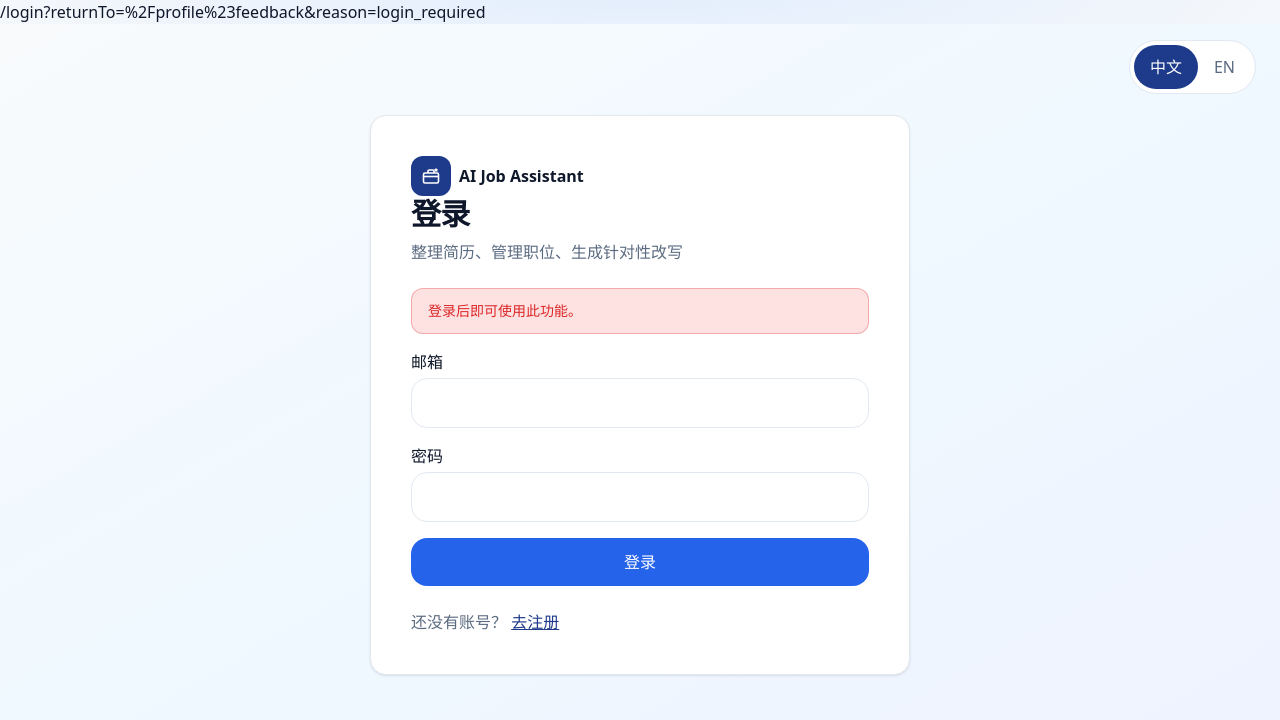
public landing and returnTo routing › logging in from the old /feedback URL lands on the profile rating card
This screenshot has width=1280, height=720.
Expected: the heading "登录" is shown, [411,193,470,234]
Expected: the text with test id "current-location" shows "/login?returnTo=%2Fprofile%23feedback", [0,1,486,23]
Type "alice@example.com" into the field labelled "邮箱" at [640, 403], box [411,378,869,428]
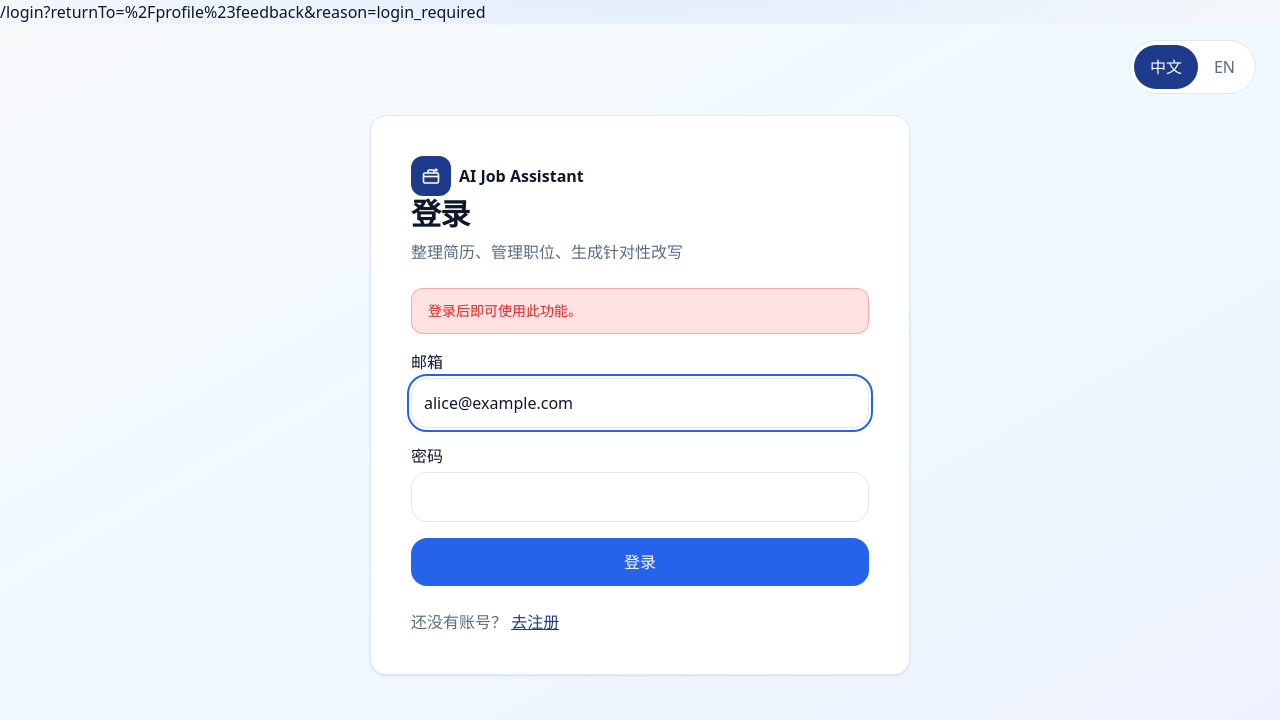
Type "Password123" into the password field labelled "密码" at [640, 497], box [411,472,869,522]
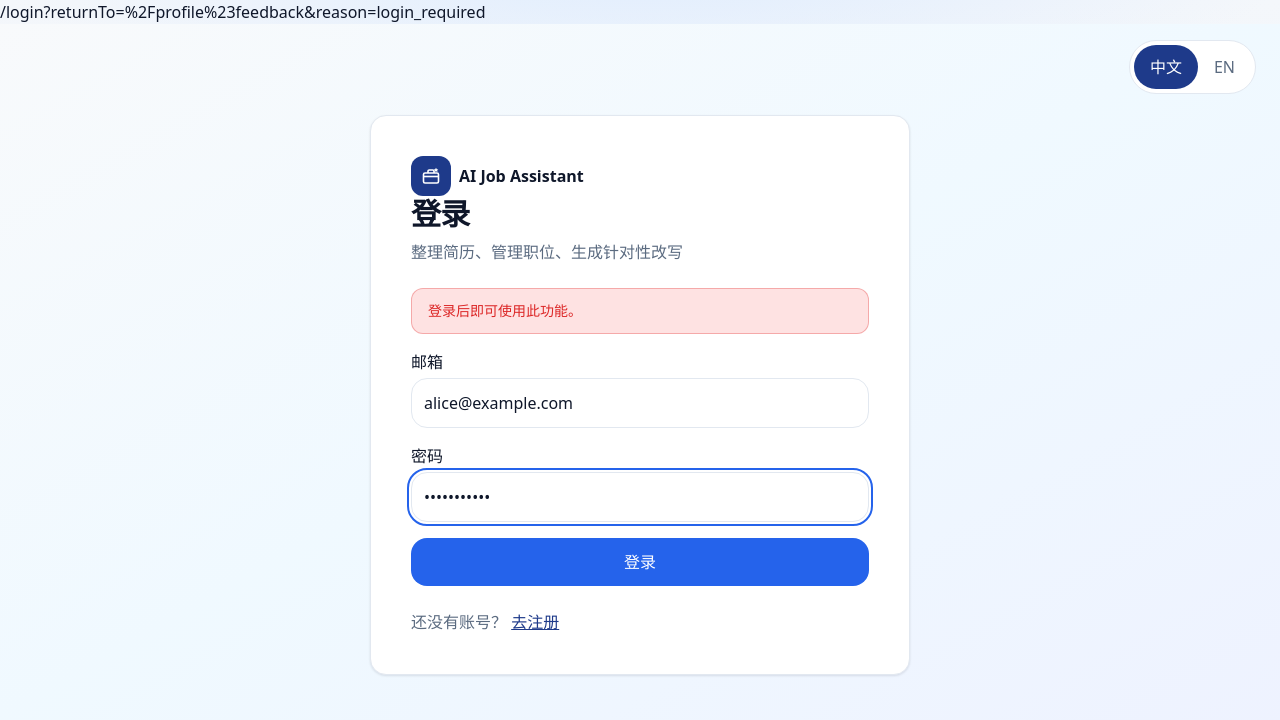
Click the button "登录" at [640, 562], box [411,538,869,586]
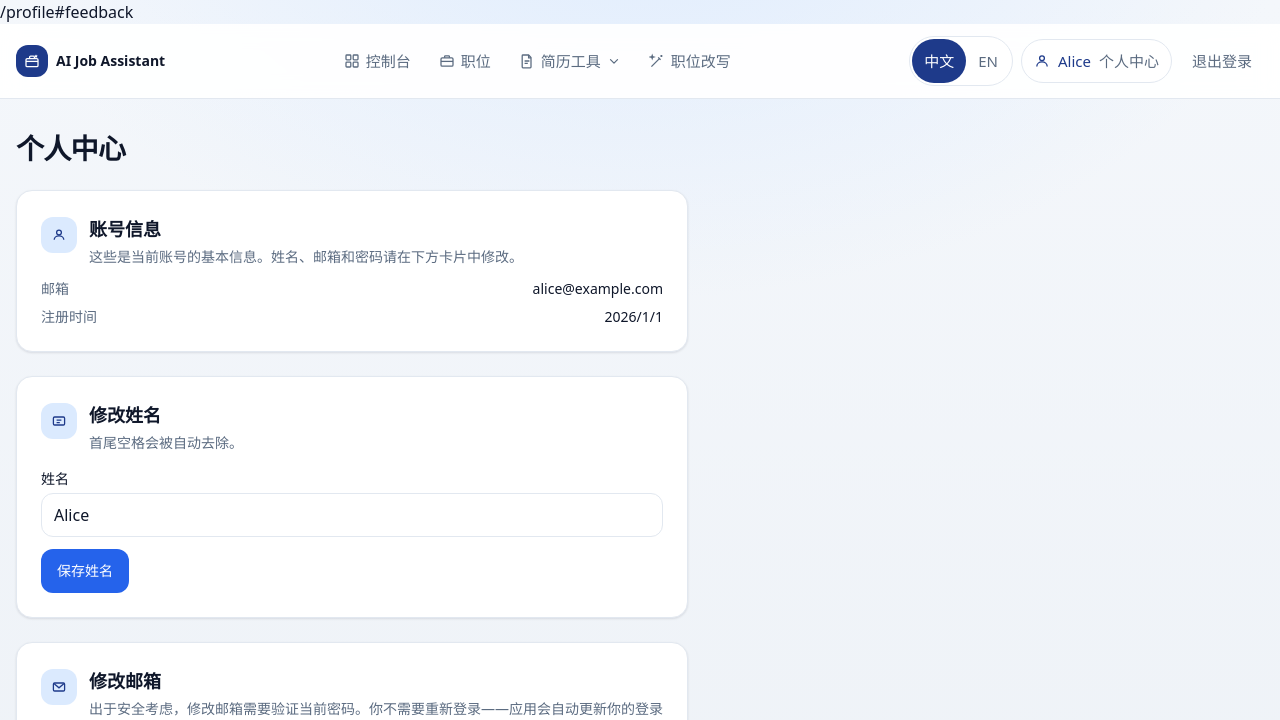
Now the heading "个人中心" is shown, box [16,129,125,167]
Now the text with test id "current-location" reads "/profile#feedback", box [0,1,133,23]
